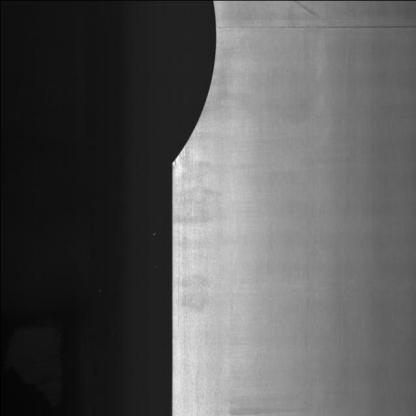crescent_gap: (156, 1, 223, 169)
welding_line: (212, 18, 416, 50)
